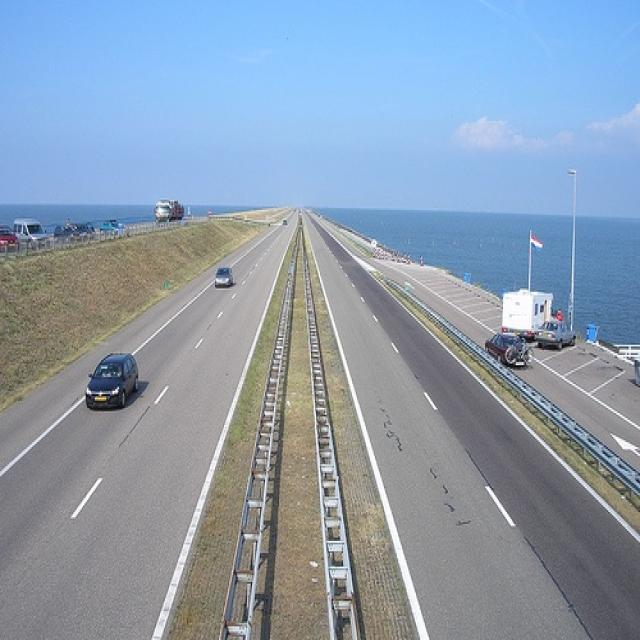car: (84, 352, 141, 413), (485, 333, 535, 367), (538, 322, 577, 352), (14, 218, 46, 239), (2, 222, 18, 251), (215, 266, 233, 288)
